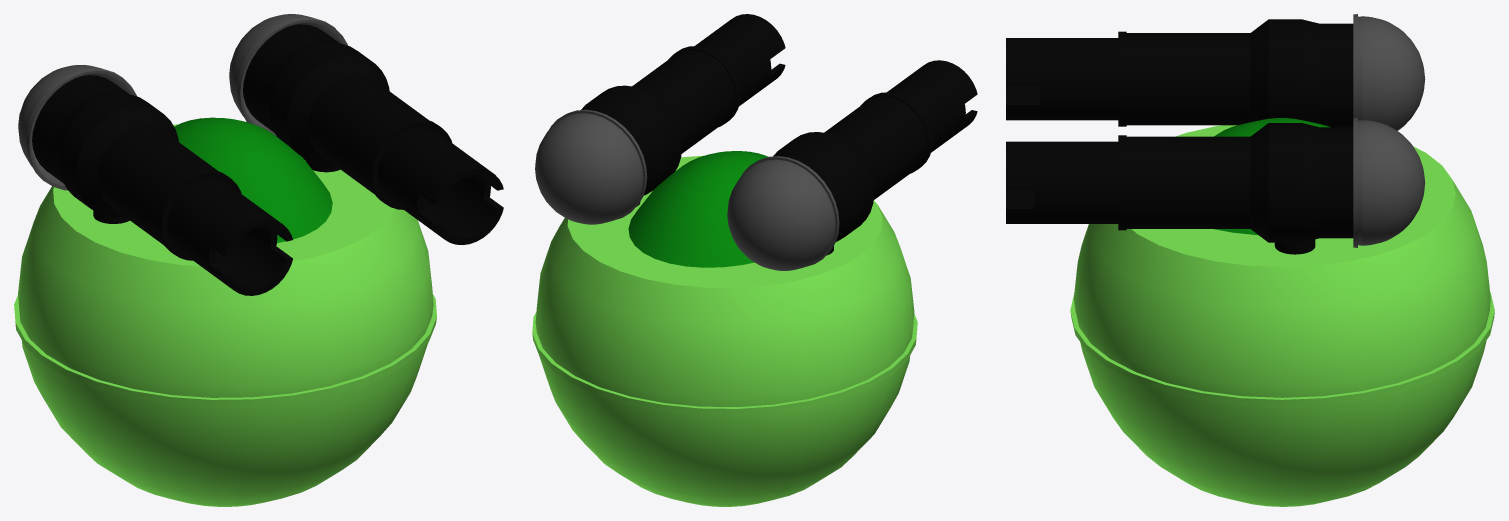
File: 3gun.fbx
3 views of the same model, side by side, from view 1: azimuth 30°, elevation 25°; view 2: azimuth 150°, elevation 25°; view 3: azimuth 270°, elevation 25° (orthographic). The views are drawn at different scales.
Parts seen in each view (by area): view 1: Sphere.003, gun 3, gun 3.001; view 2: Sphere.003, gun 3, gun 3.001; view 3: Sphere.003, gun 3.001, gun 3.
Part boxes in pixels (x1,y1,x2,y2): Sphere.003: [14, 117, 436, 506]; gun 3: [18, 65, 292, 295]; gun 3.001: [229, 14, 503, 244]; Sphere.003: [532, 151, 917, 506]; gun 3: [727, 60, 977, 270]; gun 3.001: [535, 14, 785, 224]; Sphere.003: [1070, 118, 1494, 506]; gun 3.001: [1006, 117, 1425, 254]; gun 3: [1006, 14, 1425, 130].
Size of the model in its own units: 204 by 220 by 234.
